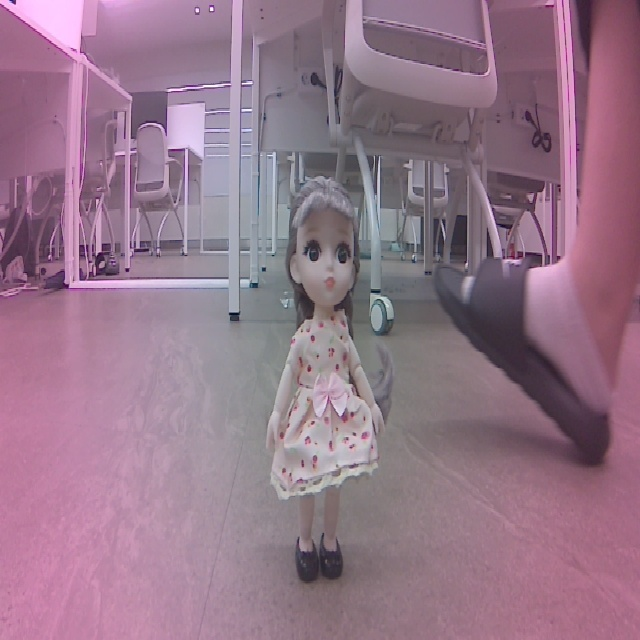장애물: (267, 165, 399, 590)
